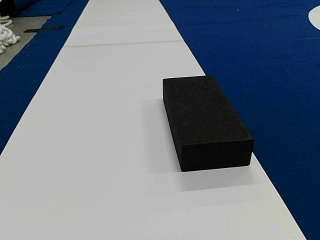block: (164, 75, 252, 170)
